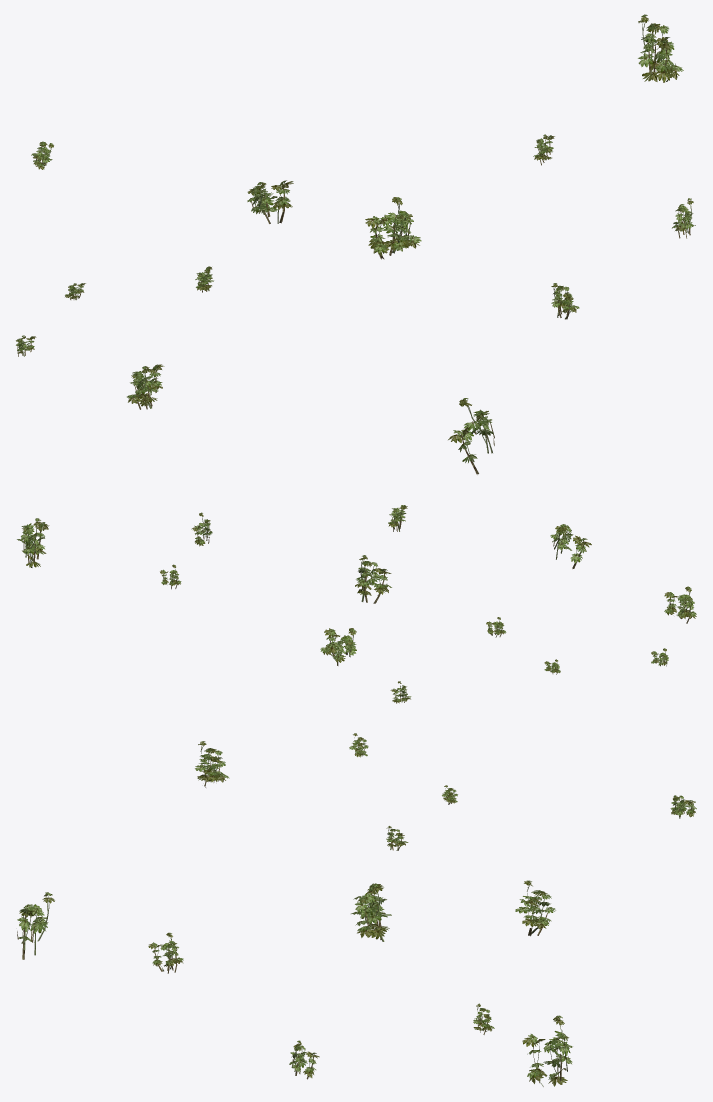
The model's file is S_Tree_Green059_A_1.FBX.
The picture shows the model from 3 angles, top to bottom: view 1: azimuth 30°, elevation 25°; view 2: azimuth 150°, elevation 25°; view 3: azimuth 270°, elevation 25°; orthographic projection. The views are drawn at different scales.
Parts seen in each view (by area): view 1: S_Tree_Green059_006, S_Tree_Green059_001, S_Tree_Green059_005, S_Tree_Green059_007, S_Tree_Green059_009; view 2: S_Tree_Green059_006, S_Tree_Green059_001, S_Tree_Green059_007, S_Tree_Green059_005, S_Tree_Green059_009, S_Tree_Green059_003; view 3: S_Tree_Green059_001, S_Tree_Green059_006, S_Tree_Green059_007, S_Tree_Green059_005, S_Tree_Green059_009, S_Tree_Green059_004, S_Tree_Green059_003.
Part boxes in pixels (x1,y1,x2,y2): S_Tree_Green059_006: (365,197,421,259); S_Tree_Green059_001: (638,14,683,82); S_Tree_Green059_005: (448,398,494,474); S_Tree_Green059_007: (247,180,293,223); S_Tree_Green059_009: (127,364,164,409); S_Tree_Green059_006: (355,555,391,603); S_Tree_Green059_001: (17,518,49,567); S_Tree_Green059_007: (320,628,356,665); S_Tree_Green059_005: (550,524,591,568); S_Tree_Green059_009: (664,586,696,623); S_Tree_Green059_003: (191,512,212,546); S_Tree_Green059_001: (522,1015,572,1086); S_Tree_Green059_006: (351,883,391,941); S_Tree_Green059_007: (515,880,555,936); S_Tree_Green059_005: (17,892,54,959); S_Tree_Green059_009: (195,741,229,787); S_Tree_Green059_004: (148,932,183,973); S_Tree_Green059_003: (289,1040,319,1079).
Bounding box in the file's own units: 12234 × 2411 × 9577.
